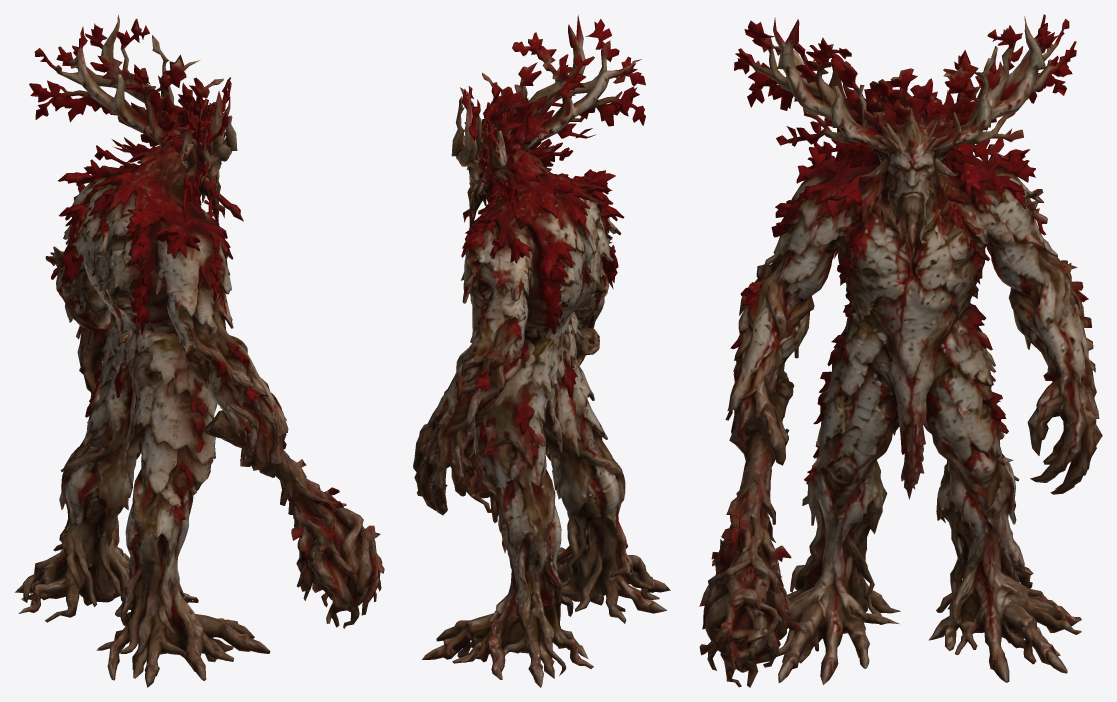
The model's file is Rootfather-tripo.glb.
3 views of the same model, side by side, from view 1: azimuth 30°, elevation 25°; view 2: azimuth 150°, elevation 25°; view 3: azimuth 270°, elevation 25° (orthographic). The views are drawn at different scales.
Visible parts, largest first — view 1: tripo_node_29bae2cb-0146-4a60-b1d4-d877bcd36665; view 2: tripo_node_29bae2cb-0146-4a60-b1d4-d877bcd36665; view 3: tripo_node_29bae2cb-0146-4a60-b1d4-d877bcd36665.
Part boxes in pixels (x1,y1,x2,y2): tripo_node_29bae2cb-0146-4a60-b1d4-d877bcd36665: [14, 14, 384, 687]; tripo_node_29bae2cb-0146-4a60-b1d4-d877bcd36665: [413, 15, 670, 687]; tripo_node_29bae2cb-0146-4a60-b1d4-d877bcd36665: [699, 14, 1102, 687].
Size of the model in its own units: 0.4562 by 1 by 0.5666.
1 material, 1 textured.
